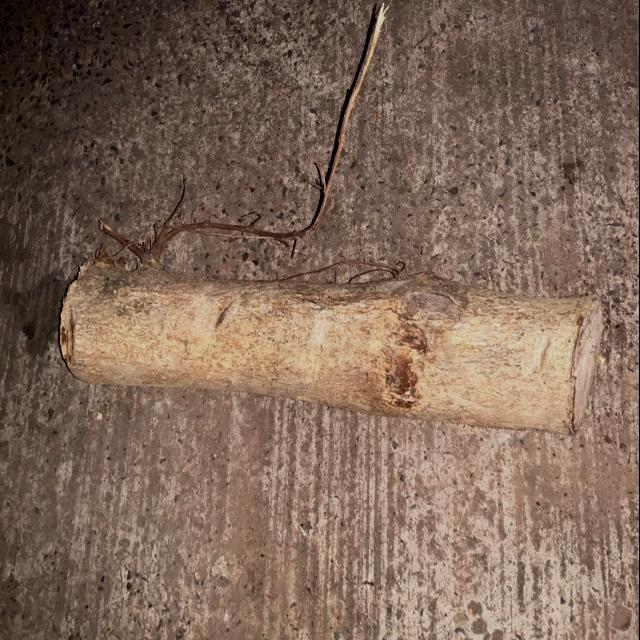General: (56, 1, 608, 436)
Infectious: (59, 251, 606, 435)
Sharps: (98, 0, 392, 267)
